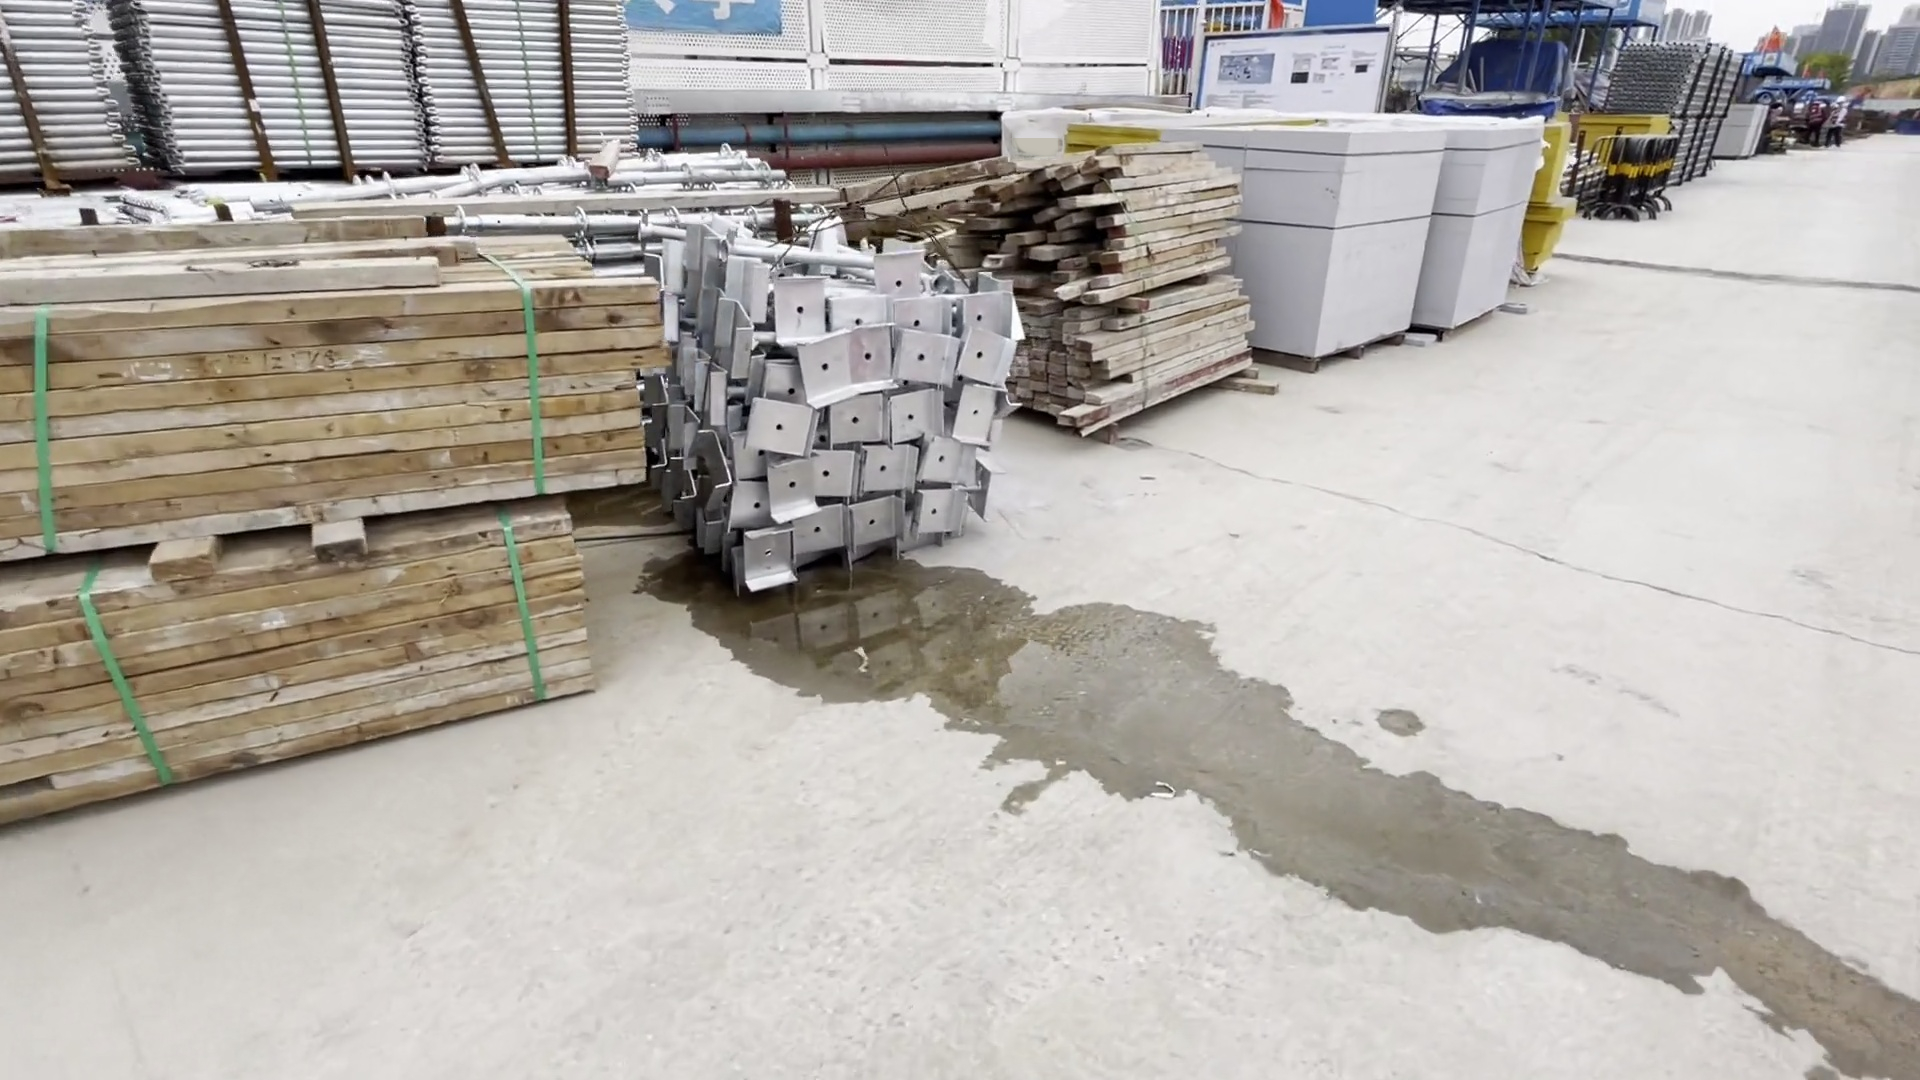brick: (1178, 117, 1557, 376), (1714, 102, 1768, 158)
scaffold: (1, 1, 796, 191)
wood: (1, 210, 676, 847), (880, 170, 1274, 446)
